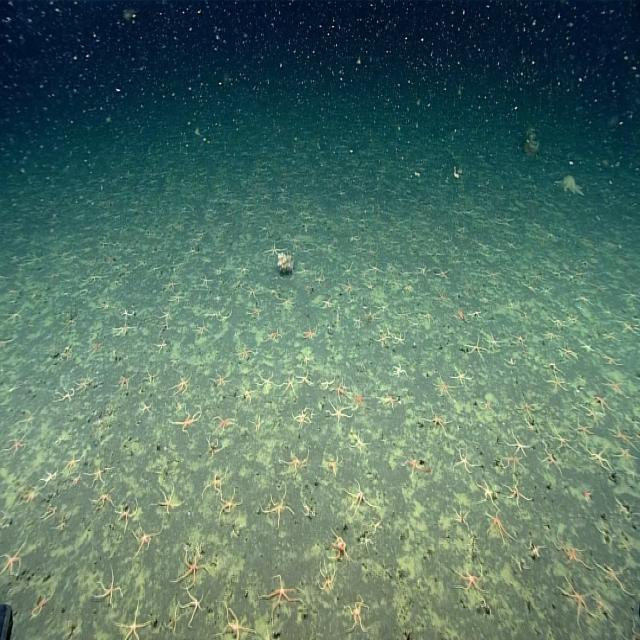brittle-stars: (446, 552, 491, 617), (166, 533, 214, 593), (261, 564, 305, 628), (548, 578, 602, 629), (254, 476, 295, 540), (339, 469, 389, 521), (550, 526, 596, 576), (594, 548, 635, 598), (88, 561, 128, 612), (339, 585, 379, 636), (26, 569, 56, 632), (214, 597, 257, 640), (147, 470, 182, 522), (114, 595, 154, 640), (478, 506, 520, 548), (272, 440, 314, 480), (0, 530, 29, 587), (172, 398, 208, 442), (447, 435, 482, 480), (110, 493, 146, 535), (198, 457, 230, 504), (178, 584, 209, 628), (396, 448, 436, 482), (125, 524, 167, 556), (418, 404, 454, 440), (80, 458, 118, 492), (532, 444, 566, 482), (326, 524, 354, 568), (283, 404, 319, 437), (509, 389, 539, 428), (578, 442, 614, 474), (444, 498, 474, 536), (471, 477, 502, 512), (322, 398, 353, 432), (218, 492, 248, 527), (501, 474, 533, 506), (602, 370, 636, 400), (318, 447, 347, 482), (85, 486, 119, 515), (2, 427, 30, 462), (373, 389, 408, 417), (588, 382, 616, 417), (544, 424, 576, 454), (458, 330, 488, 362), (252, 368, 278, 404), (276, 369, 300, 408), (310, 563, 339, 595), (15, 478, 43, 510), (430, 374, 458, 406), (210, 408, 240, 437), (365, 296, 394, 326), (611, 492, 638, 524), (577, 396, 603, 429), (37, 461, 62, 495), (591, 519, 620, 548), (12, 402, 40, 432), (56, 305, 84, 335), (54, 373, 76, 411), (152, 300, 178, 332), (82, 333, 110, 362), (611, 612, 640, 640), (345, 428, 371, 458), (260, 322, 286, 352), (51, 511, 72, 548), (165, 373, 196, 398), (592, 588, 614, 623), (200, 432, 228, 459), (502, 430, 531, 456), (76, 365, 98, 398), (235, 380, 259, 410), (448, 361, 476, 386), (239, 277, 264, 304), (58, 448, 86, 472), (50, 337, 74, 365), (205, 368, 233, 392), (539, 378, 571, 399), (114, 367, 137, 396), (298, 494, 320, 524), (299, 318, 324, 344), (246, 410, 270, 437), (231, 340, 259, 363), (332, 377, 355, 405), (40, 494, 60, 526), (293, 364, 318, 389), (384, 358, 409, 383), (616, 310, 640, 336), (363, 255, 390, 278), (497, 452, 524, 475), (108, 318, 136, 340), (568, 289, 596, 311), (163, 605, 181, 639), (539, 312, 571, 331), (596, 323, 620, 348), (261, 239, 284, 265), (308, 267, 330, 294), (142, 364, 163, 392), (318, 368, 339, 396), (200, 308, 239, 323), (244, 301, 268, 325), (0, 303, 24, 327), (335, 279, 360, 302), (526, 537, 551, 560), (272, 292, 298, 314), (507, 330, 533, 352), (297, 346, 321, 369), (556, 340, 580, 363), (133, 396, 155, 421), (483, 326, 504, 352), (566, 421, 594, 440), (415, 305, 438, 328), (506, 553, 530, 575), (478, 394, 500, 418), (593, 354, 626, 370), (0, 505, 15, 540), (338, 251, 356, 280), (611, 446, 637, 466), (462, 277, 482, 303), (293, 257, 313, 282), (371, 327, 391, 352), (465, 305, 487, 327), (352, 386, 372, 410), (79, 268, 107, 285), (193, 317, 212, 342), (621, 466, 640, 491), (486, 262, 504, 288), (148, 336, 170, 357), (314, 294, 338, 313), (432, 265, 453, 286), (357, 530, 377, 552), (431, 285, 453, 305), (539, 328, 561, 348), (194, 269, 215, 289), (563, 308, 584, 328), (389, 328, 408, 350), (543, 359, 565, 378), (155, 276, 181, 292), (66, 467, 84, 490), (206, 288, 226, 308), (578, 336, 598, 356), (0, 381, 22, 399), (370, 515, 387, 537), (451, 305, 465, 331), (95, 295, 113, 315), (236, 256, 253, 276), (396, 283, 420, 297), (501, 353, 518, 372), (349, 310, 365, 330), (413, 260, 429, 280), (363, 274, 376, 297), (582, 484, 595, 507), (289, 237, 304, 256), (397, 304, 411, 324), (120, 304, 137, 320), (180, 244, 198, 259), (51, 432, 65, 449), (170, 286, 182, 305)
